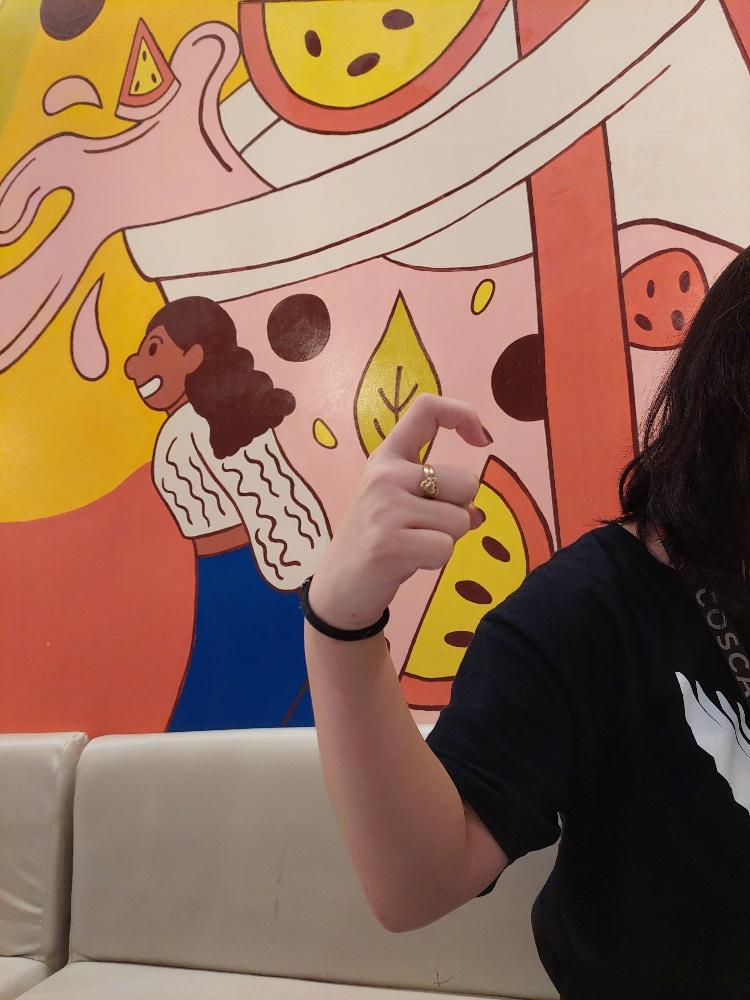x: (311, 388, 495, 625)
